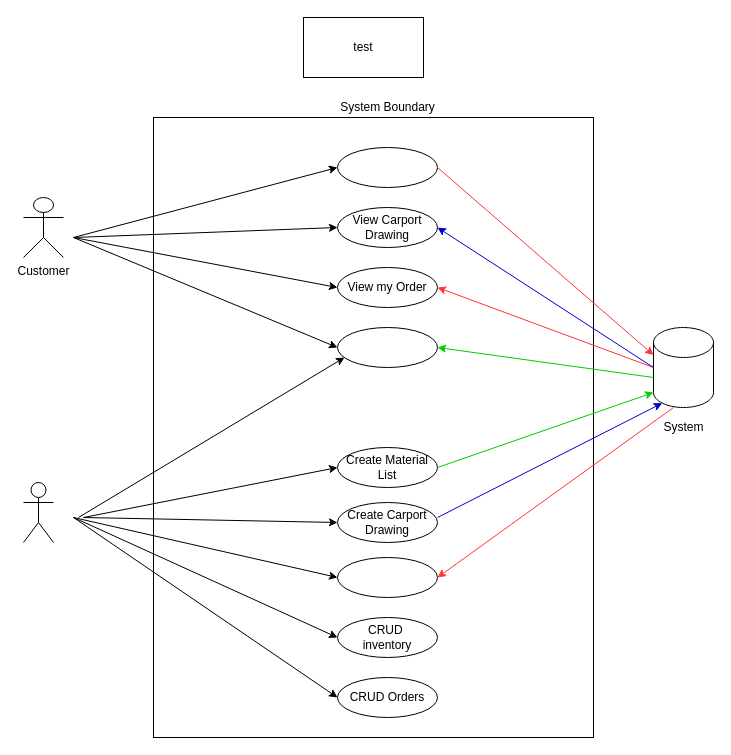
Image size: 731x755. Some labels were removed from this diagram. The box of each missing label's shape, as (x1, y1, x2, y2) in pixels:
Admin: (22, 482, 54, 542)
Create Custom Order: (336, 146, 438, 188)
View Material List: (336, 326, 438, 368)
View Order History: (336, 556, 438, 598)
